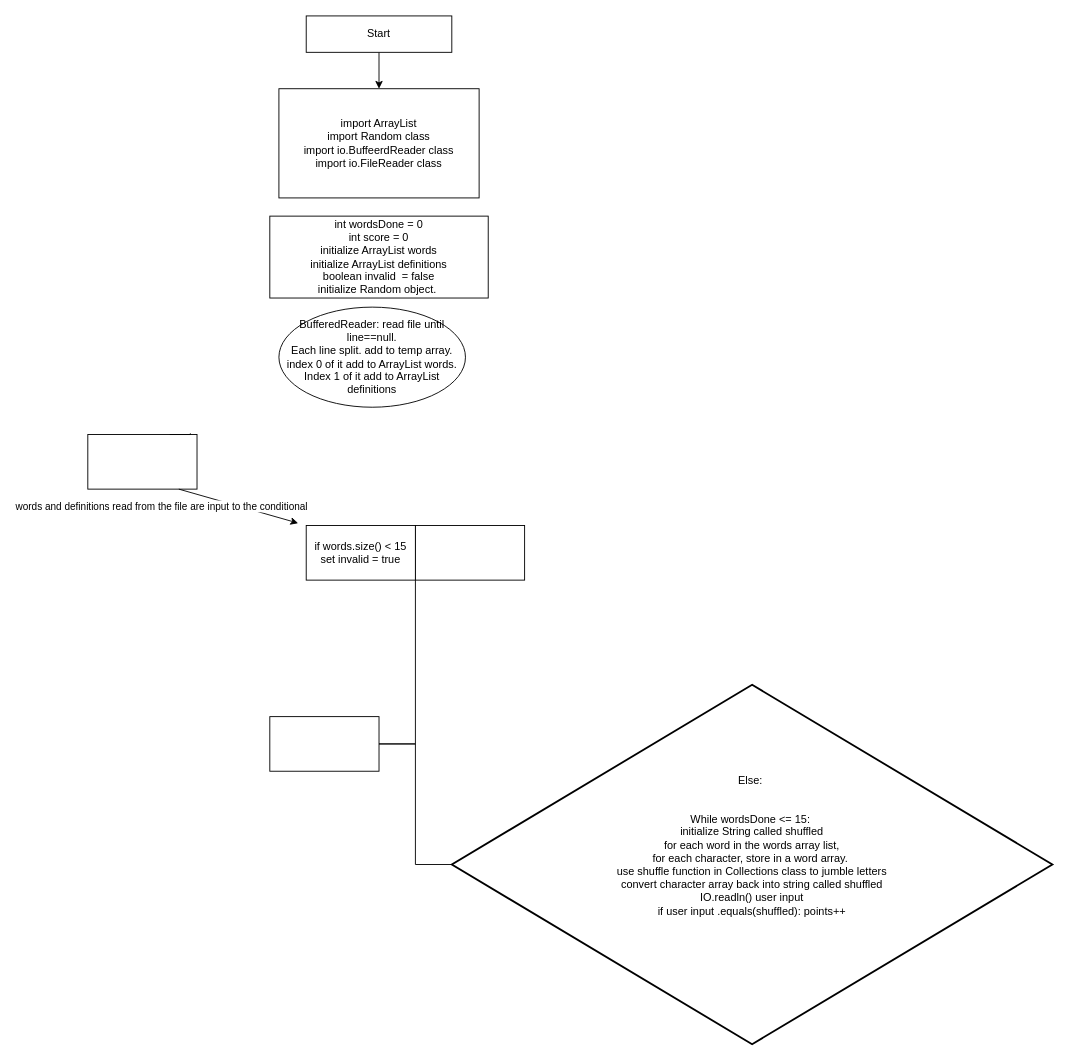
This 1069x1061 diagram has some shape labels left out. The centre of each missing label's shape, as x and y in pixels:
ArrayList words ArrayList definitions: pixel 142 461
for every index of words, if word.length() < 3 set invalid= true: pixel 470 552
If invalid, print "Vocab list invalid" return: pixel 324 743
